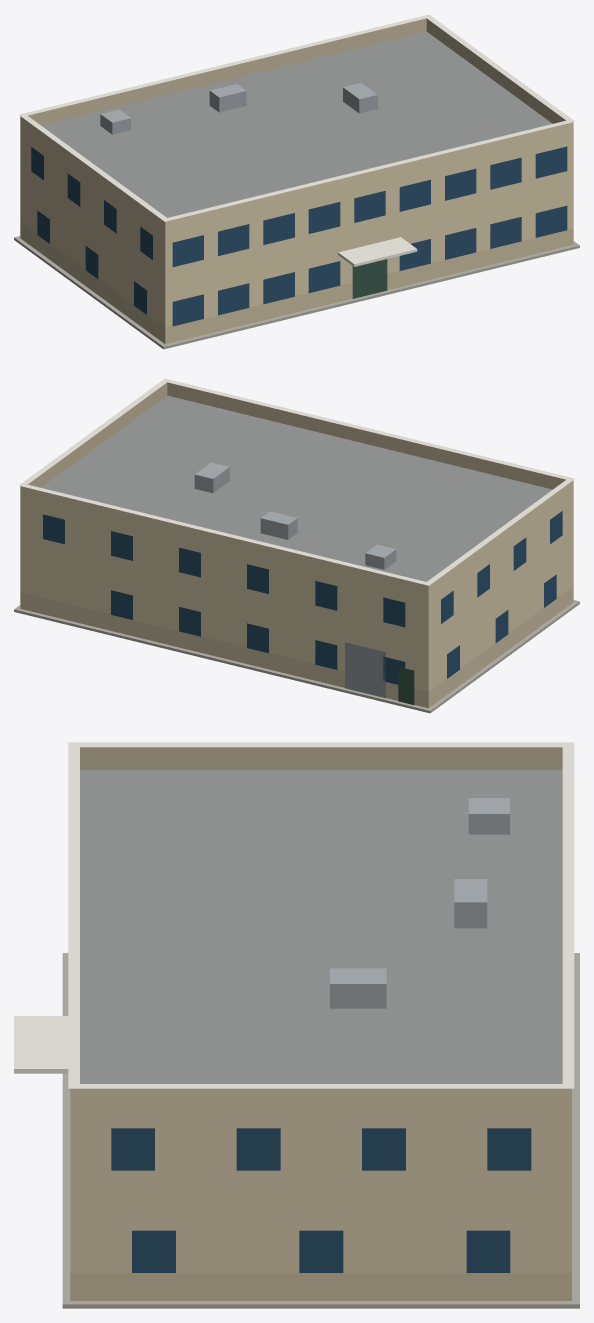
Rendered from office_26x16_2f_lod1.glb.
The picture shows the model from 3 angles, top to bottom: view 1: azimuth 30°, elevation 25°; view 2: azimuth 150°, elevation 25°; view 3: azimuth 270°, elevation 25°; orthographic projection. The views are drawn at different scales.
Parts seen in each view (by area): view 1: block; view 2: block; view 3: block.
Part boxes in pixels (<box>): block: <box>14,14,579,349</box>; block: <box>14,378,579,713</box>; block: <box>14,742,579,1308</box>.
Size of the model in its own units: 26.5 by 7.77 by 18.05.
